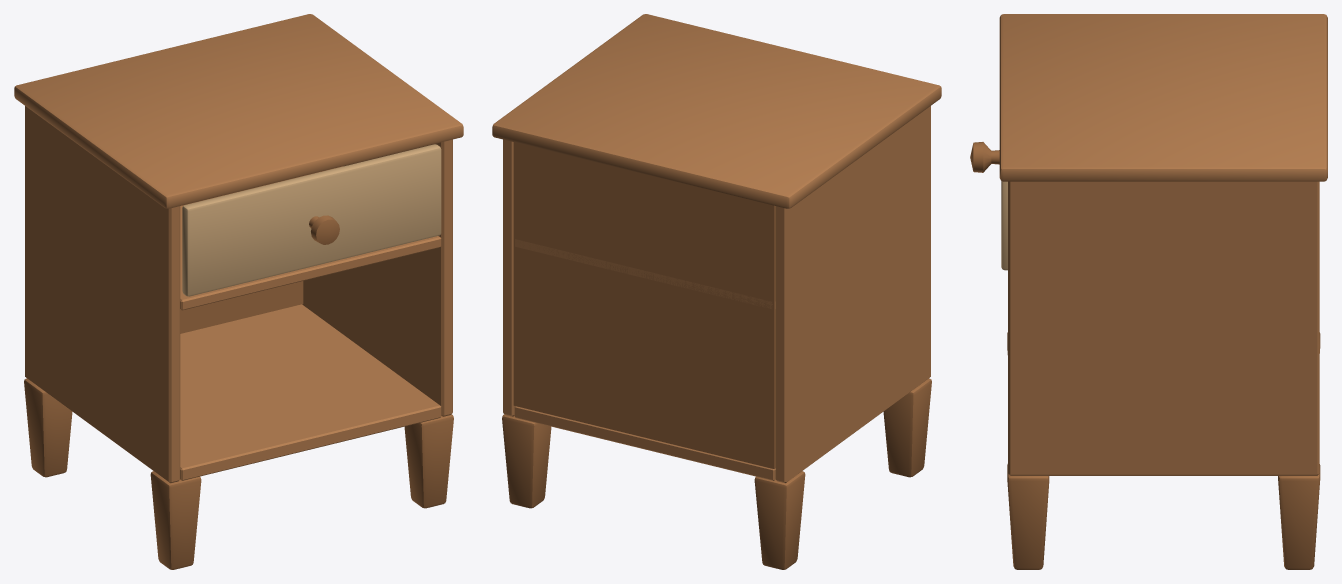
The model's file is BedsideTable.fbx.
3 views of the same model, side by side, from view 1: azimuth 30°, elevation 25°; view 2: azimuth 150°, elevation 25°; view 3: azimuth 270°, elevation 25° (orthographic). The views are drawn at different scales.
Visible parts, largest first — view 1: BedsideTable_Mesh; view 2: BedsideTable_Mesh; view 3: BedsideTable_Mesh.
Part boxes in pixels (box(x1,y1,x2,y2)): BedsideTable_Mesh: box(14, 14, 463, 569); BedsideTable_Mesh: box(492, 14, 941, 569); BedsideTable_Mesh: box(970, 14, 1327, 569).
Size of the model in its own units: 0.45 by 0.55 by 0.436.
